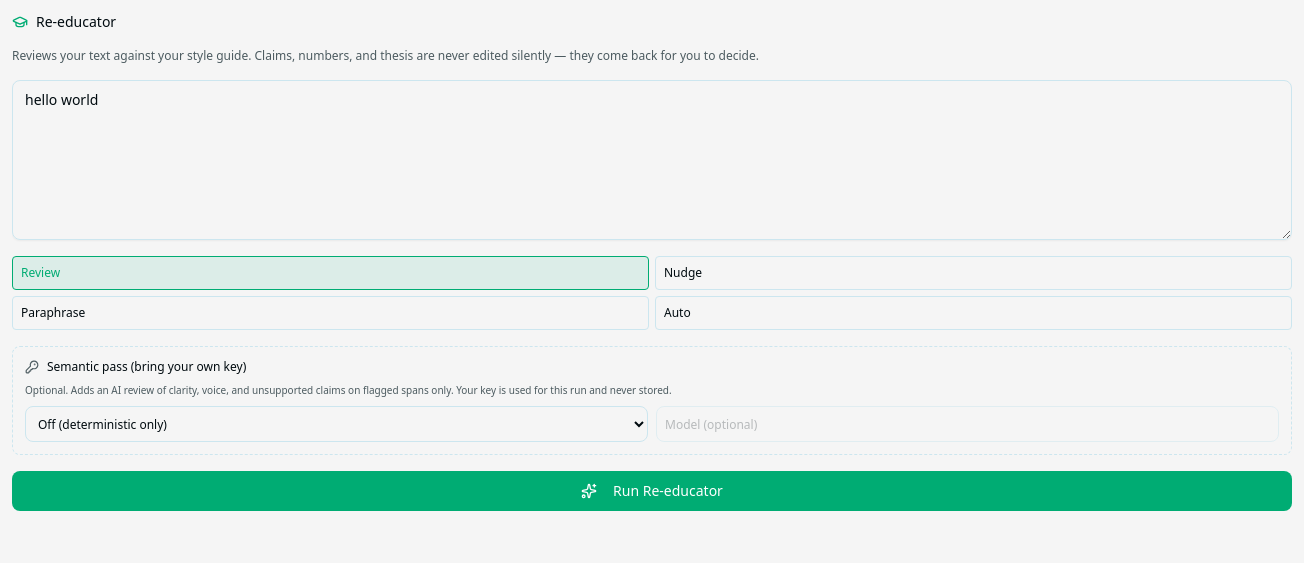
Test: ReEducatorPanel › steers nudge mode to Review instead of sending an invalid request
What coordinates should you click on to do the following:
click the button "Nudge"
I would click on:
 (683, 272)
Its box is [655,256,1292,290].
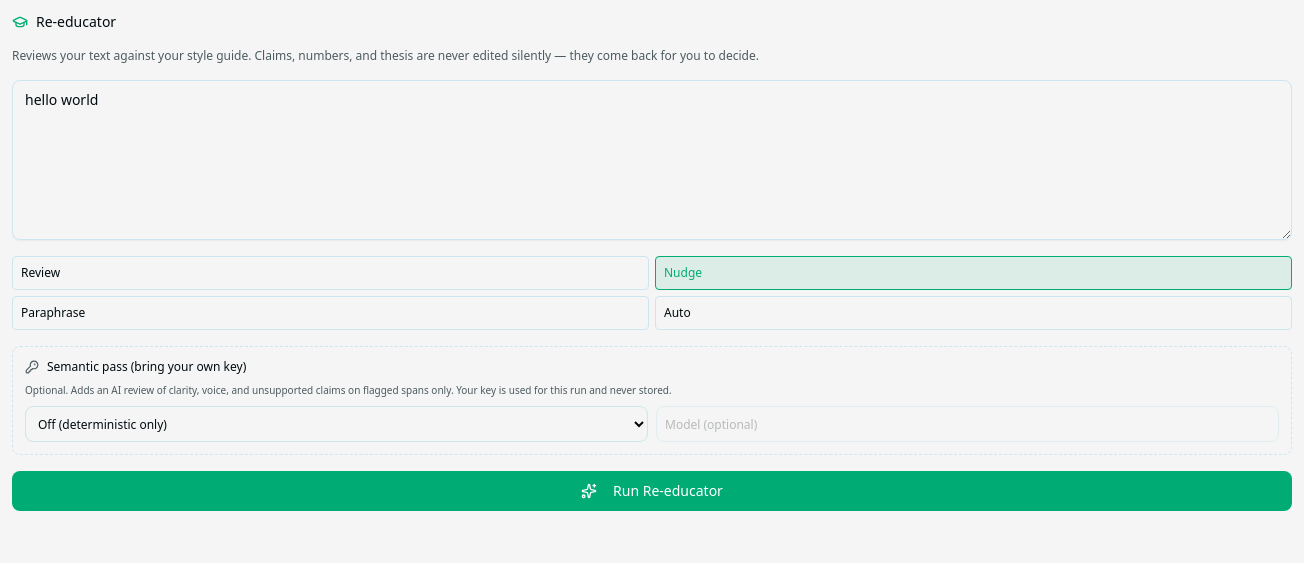
What coordinates should you click on to do the following:
click the button "Run Re-educator"
I would click on:
 (652, 491)
Its box is [12,471,1292,511].
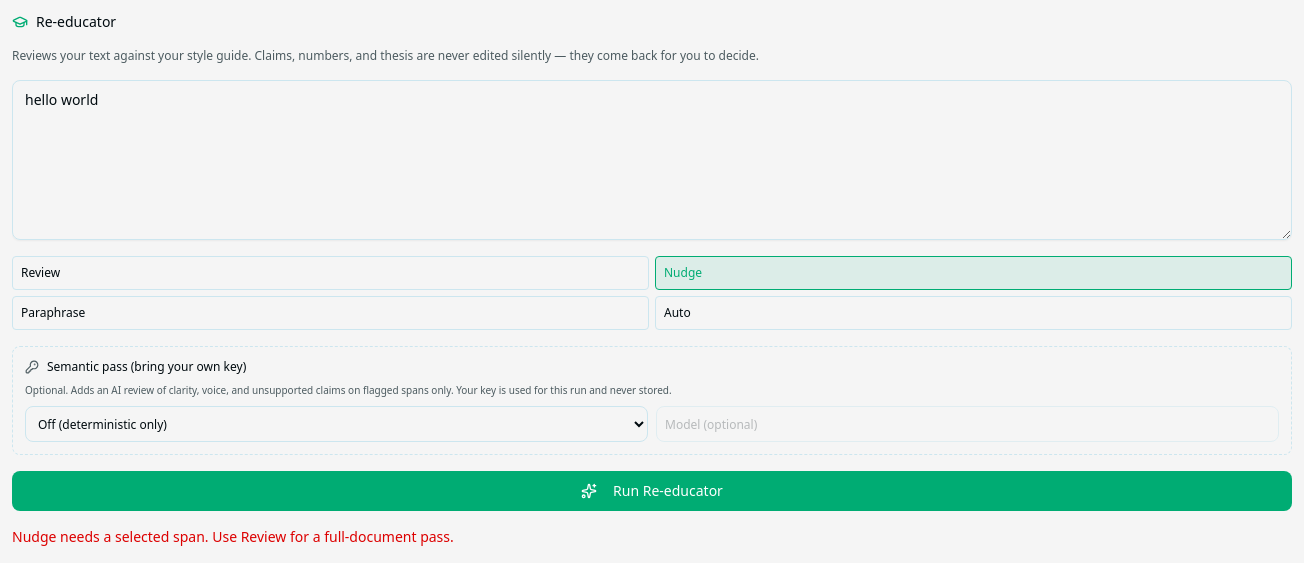
Now the text "Nudge needs a selected span. Use Review for a full-document pass." is shown, box [12,527,454,546]
